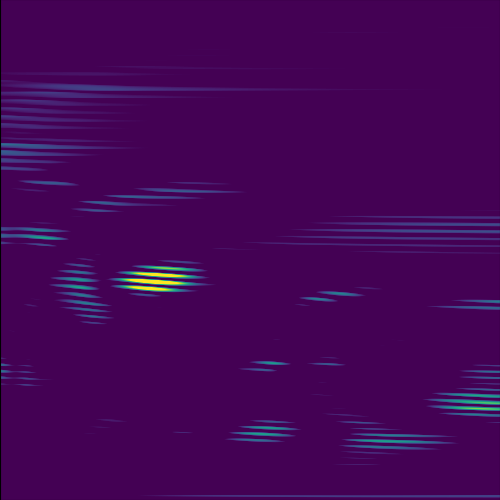semblance: (113, 262, 210, 297)
